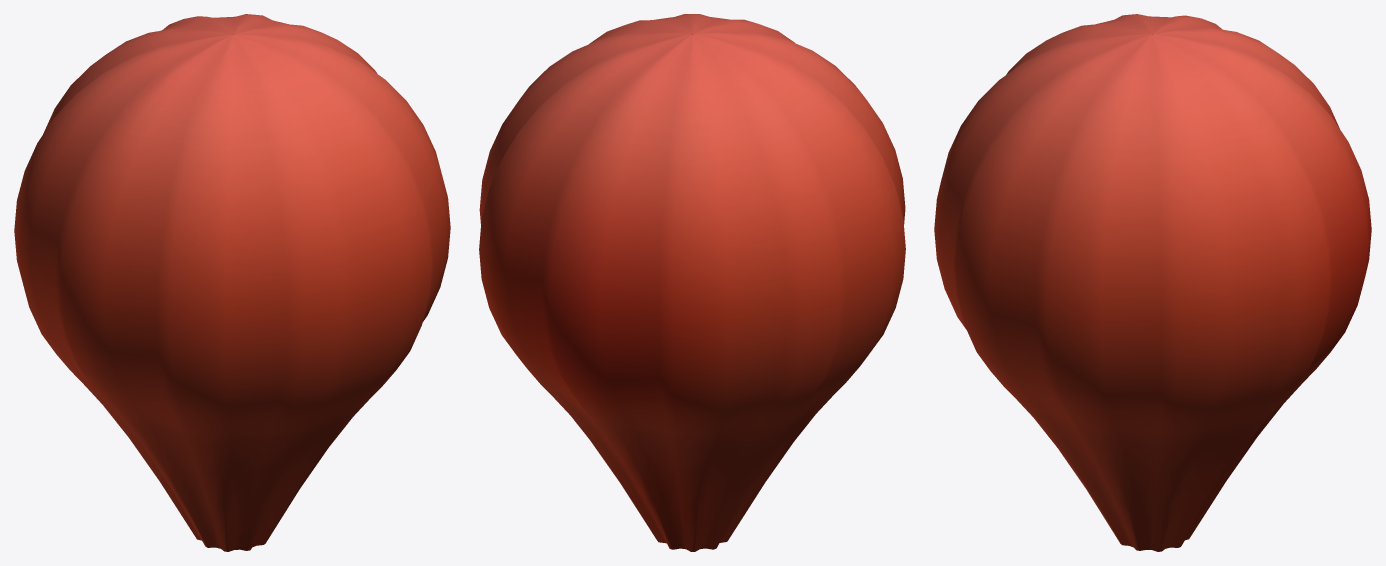
File: Geo_Balloon_Final.fbx
3 views of the same model, side by side, from view 1: azimuth 30°, elevation 25°; view 2: azimuth 150°, elevation 25°; view 3: azimuth 270°, elevation 25° (orthographic).
Visible parts, largest first — view 1: Geo_Balloon; view 2: Geo_Balloon; view 3: Geo_Balloon.
Part boxes in pixels (x1=…): Geo_Balloon: x1=14, y1=14, x2=450, y2=551; Geo_Balloon: x1=479, y1=14, x2=905, y2=551; Geo_Balloon: x1=934, y1=14, x2=1371, y2=551.
Size of the model in its own units: 1725 by 2209 by 1743.
Materials: 1 (1 with a texture image).
